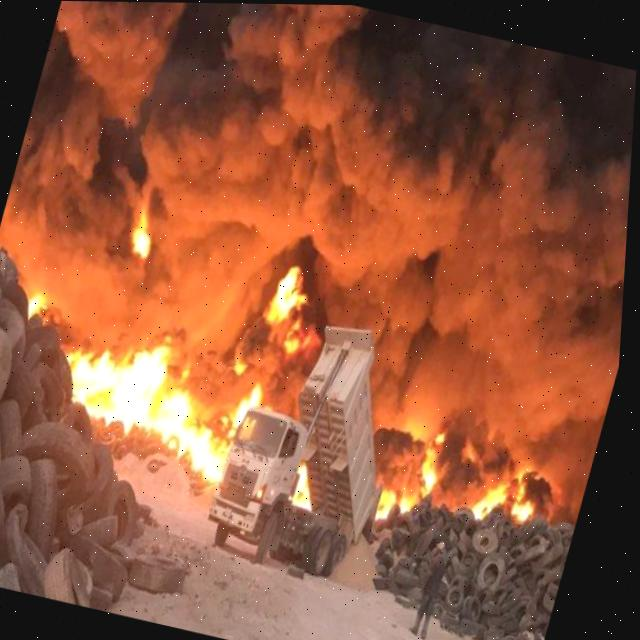fire: (73, 265, 325, 480), (380, 408, 562, 519), (132, 206, 154, 265), (34, 294, 61, 320), (300, 464, 314, 506)
smoke: (1, 1, 637, 516), (241, 350, 317, 405)
